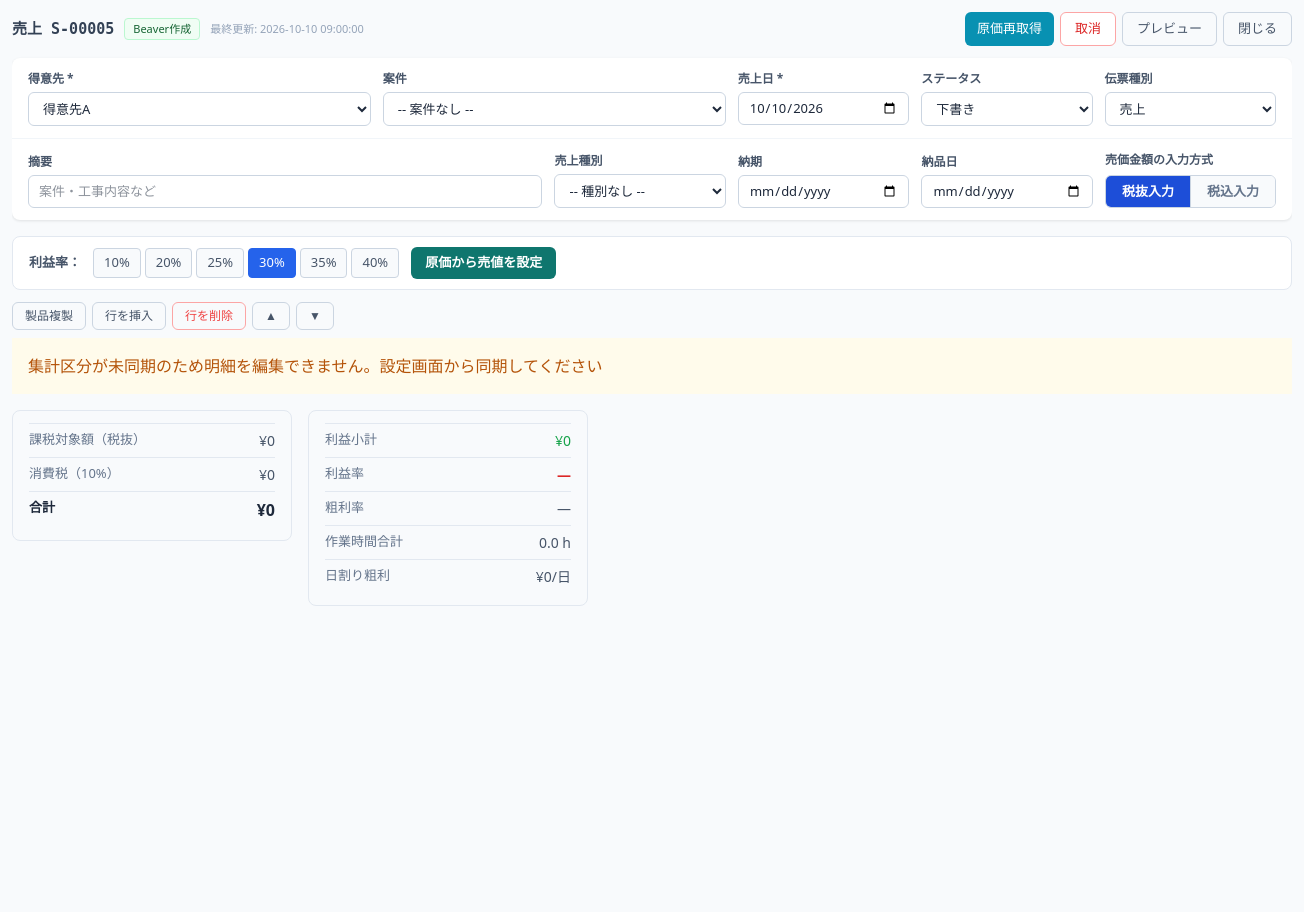
it: R-0172: 伝票画面の保存状態を右下に固定表示する › R-0166 の再読み込み案内も右下固定の枠に出す
The image size is (1304, 912).
Expected: the date field showing "2026-10-10" below "売上日 *" is shown, [738, 92, 909, 125]
In the field named "description": (285, 191) [28, 174, 542, 208], type "山田様邸"
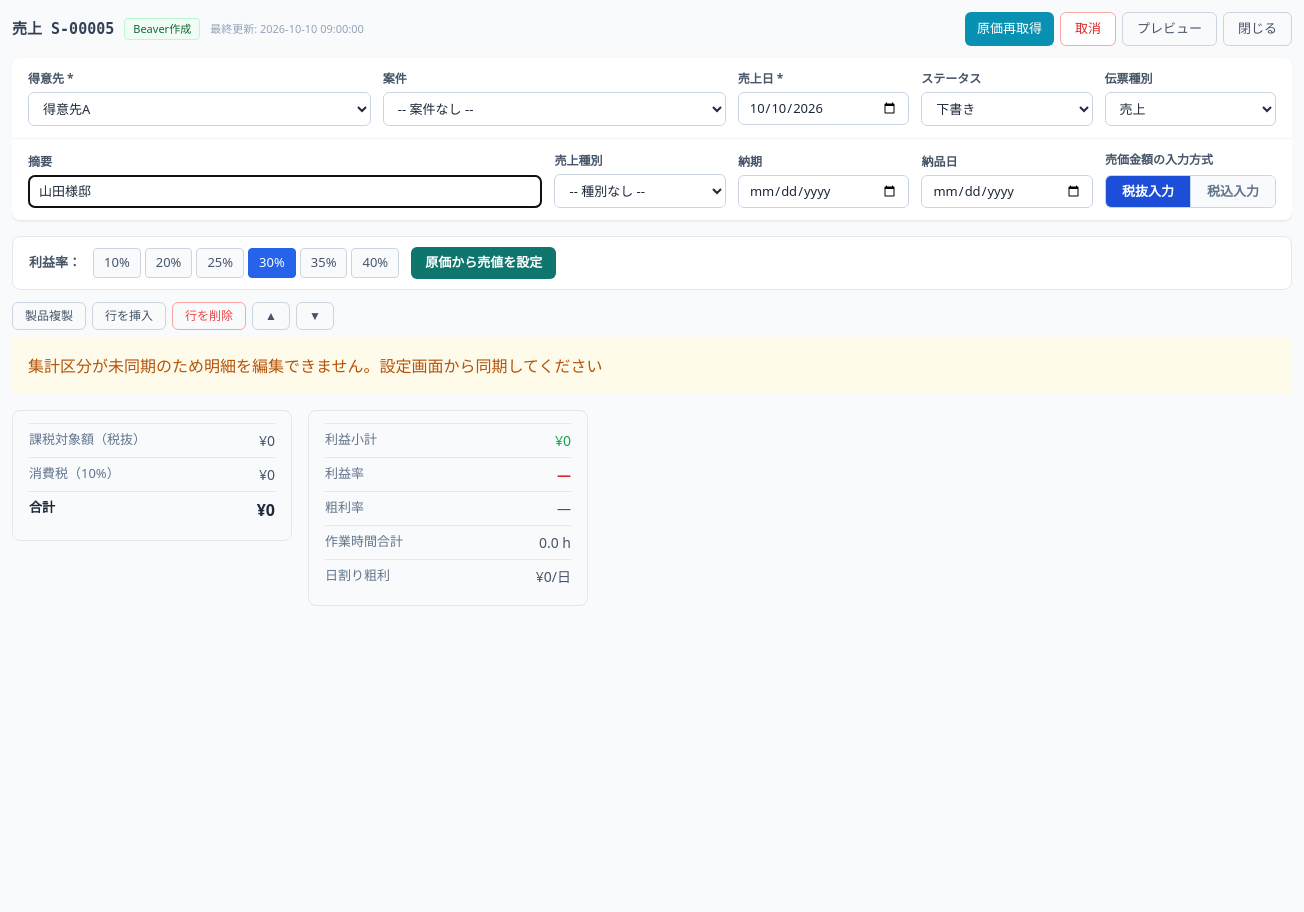
Press Tab
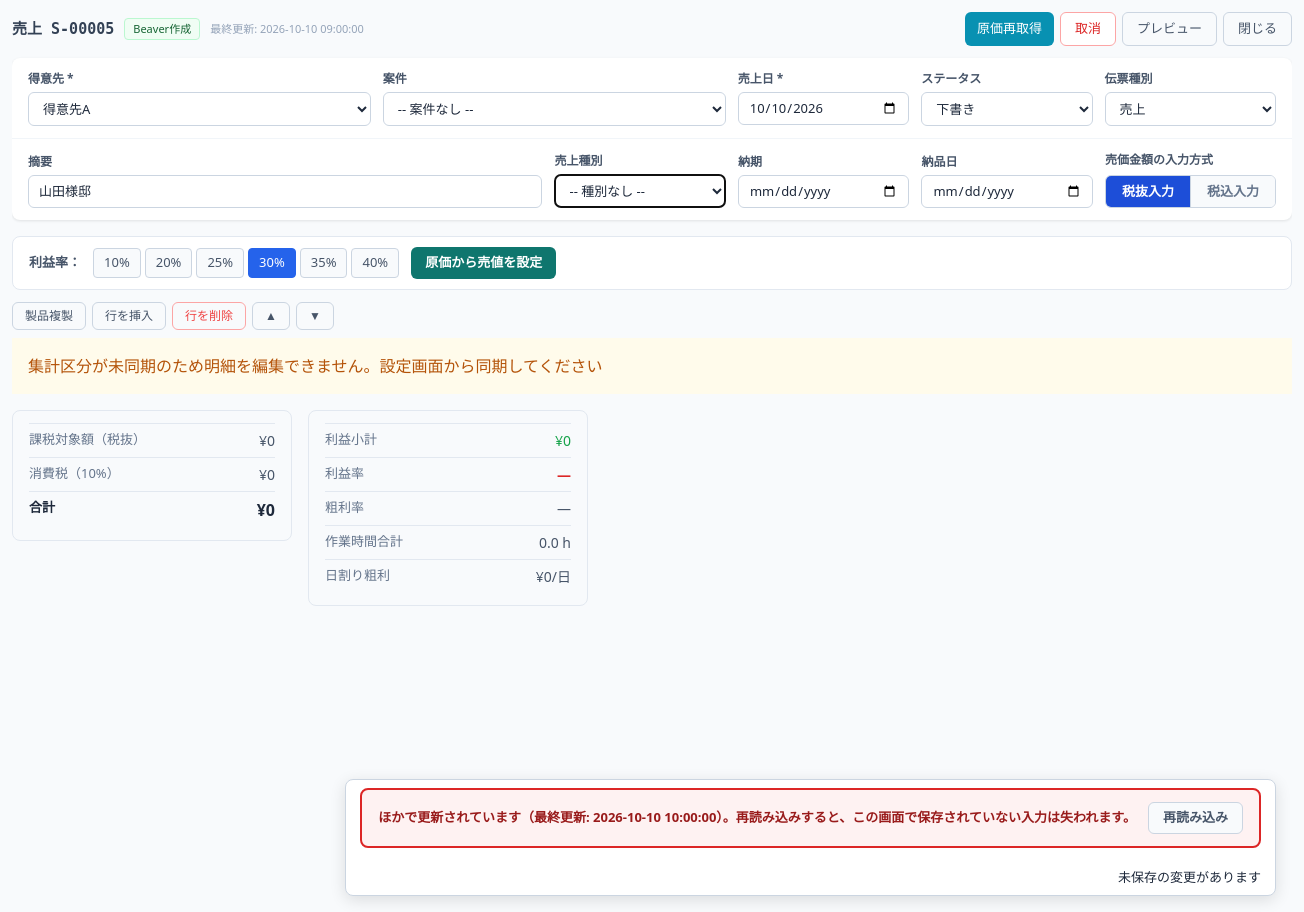
Result: the text "ほかで更新されています" is shown at [378, 808, 593, 826]
